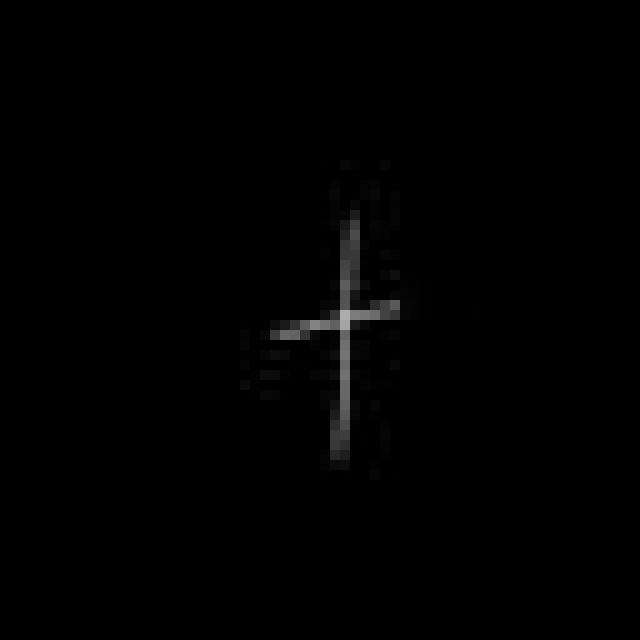10 -ten-: (269, 216, 410, 462)
